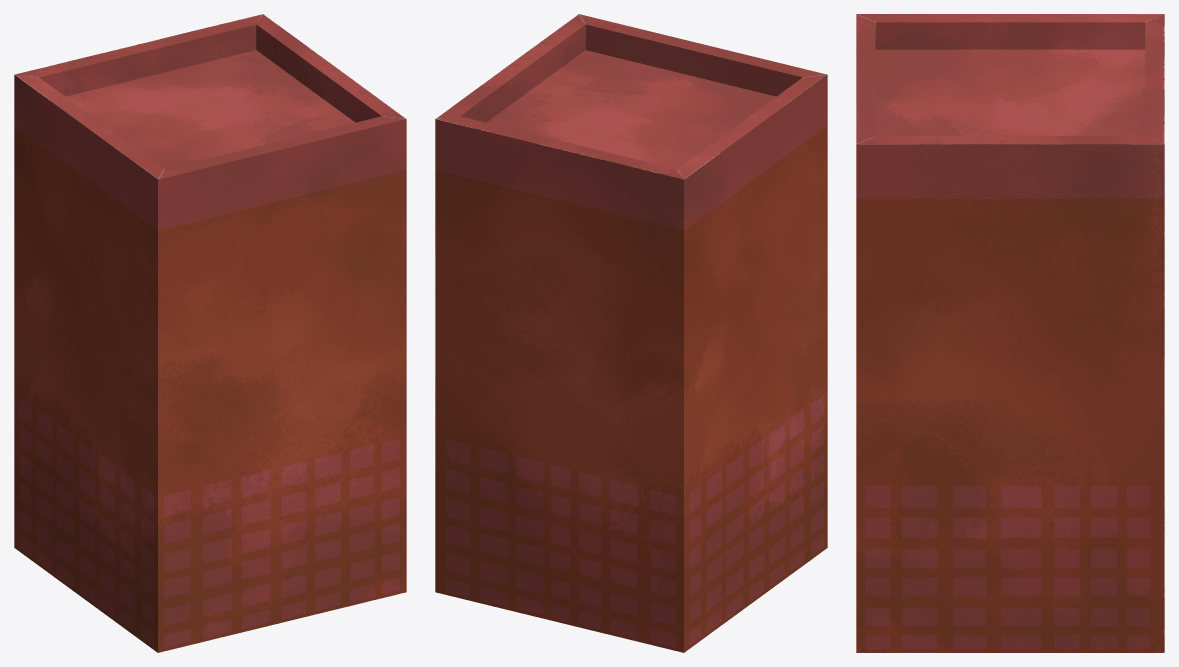
Rendered from Edif2.fbx.
3 renders of one model, left to right at view 1: azimuth 30°, elevation 25°; view 2: azimuth 150°, elevation 25°; view 3: azimuth 270°, elevation 25°, orthographic. The views are drawn at different scales.
Visible parts, largest first — view 1: 02; view 2: 02; view 3: 02.
Part boxes in pixels (x1,y1,x2,y2): 02: (14, 14, 406, 652); 02: (435, 14, 827, 652); 02: (856, 14, 1164, 652).
Size of the model in its own units: 1273 by 2316 by 1273.
